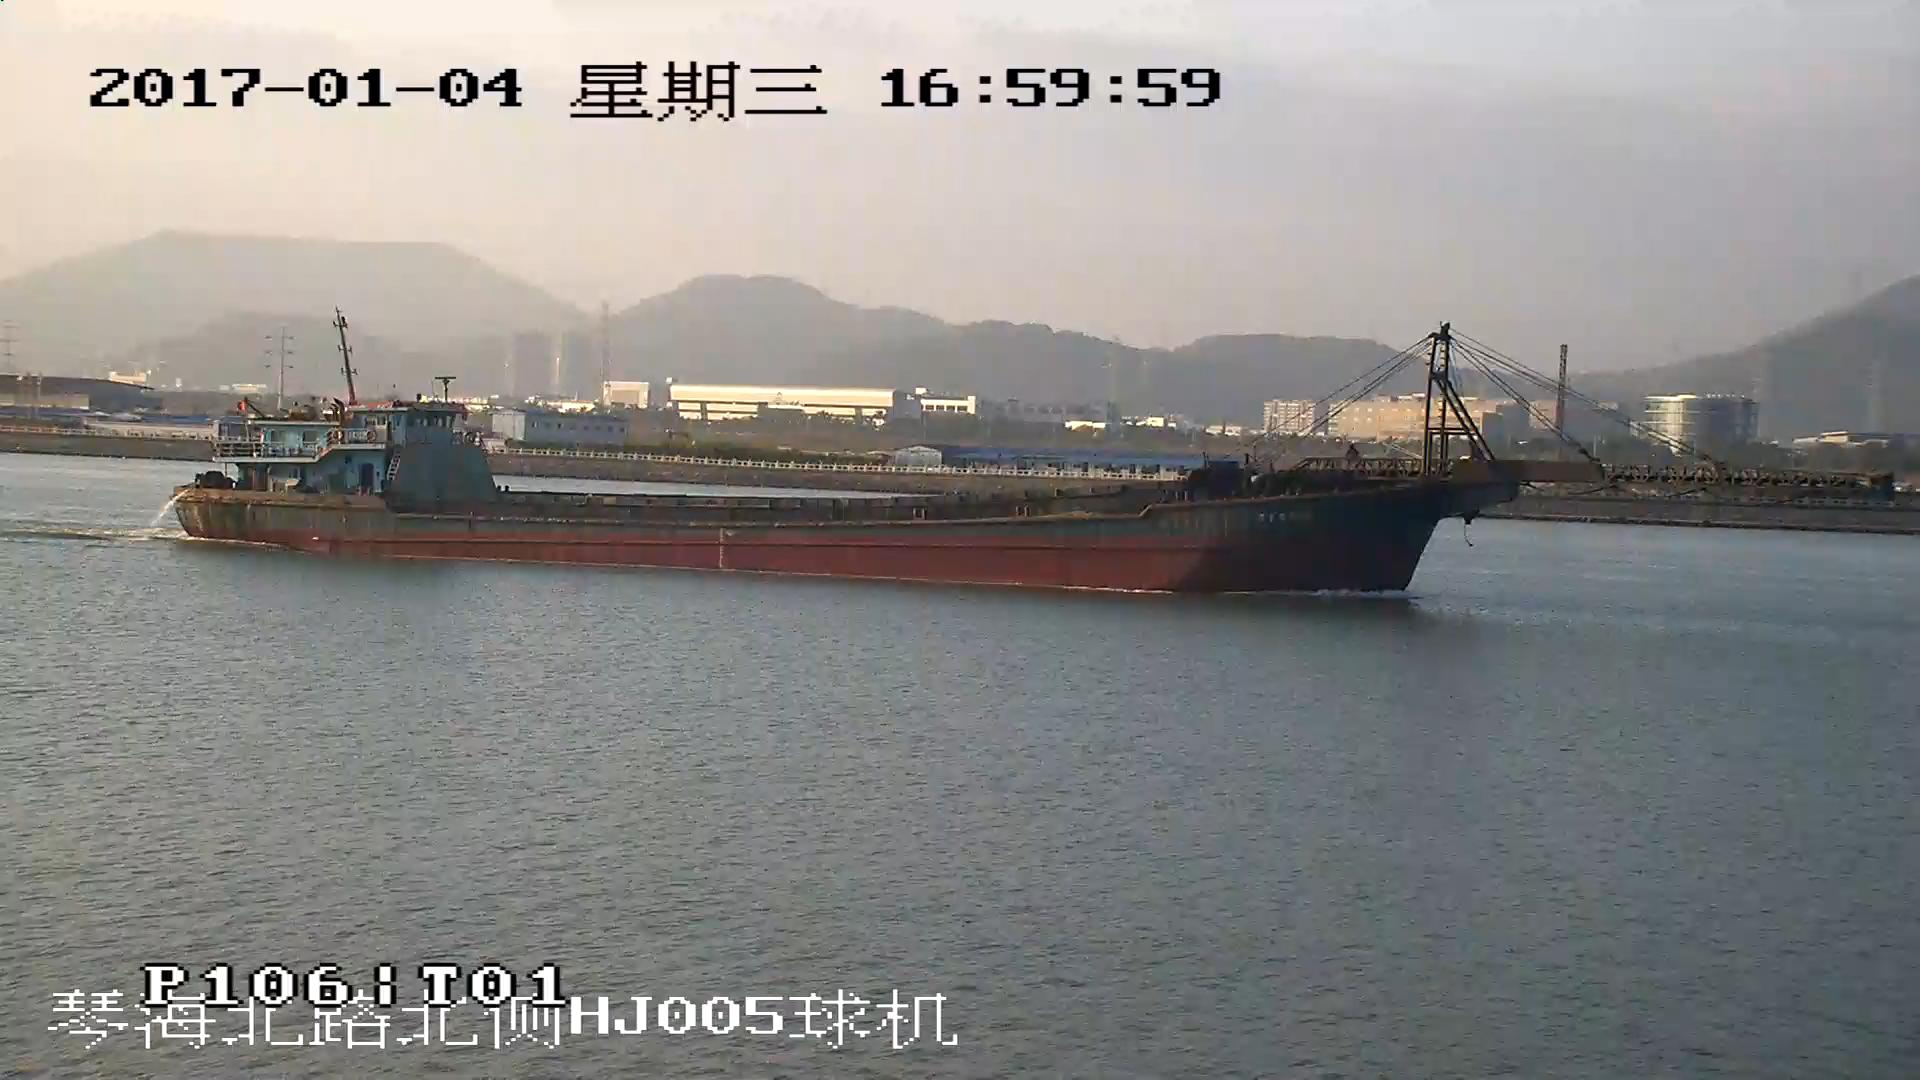bulk cargo carrier: (176, 327, 1859, 595)
